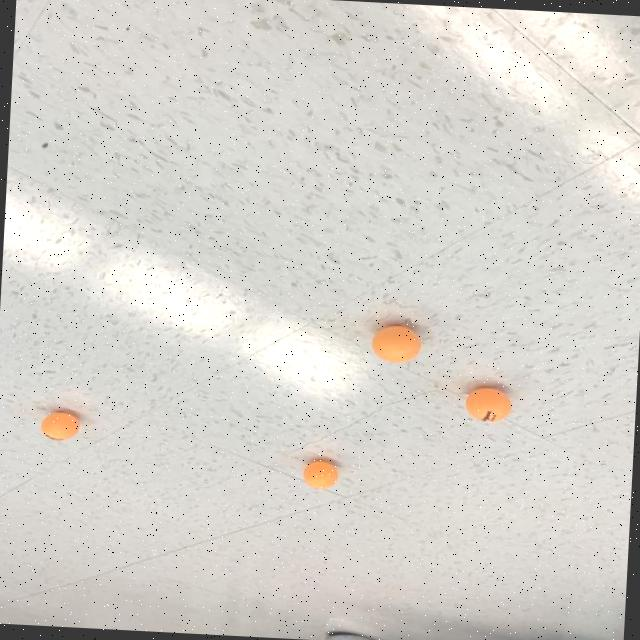ping-pong-ball: (457, 380, 517, 431), (368, 322, 426, 368), (35, 408, 84, 444), (299, 458, 342, 493)
